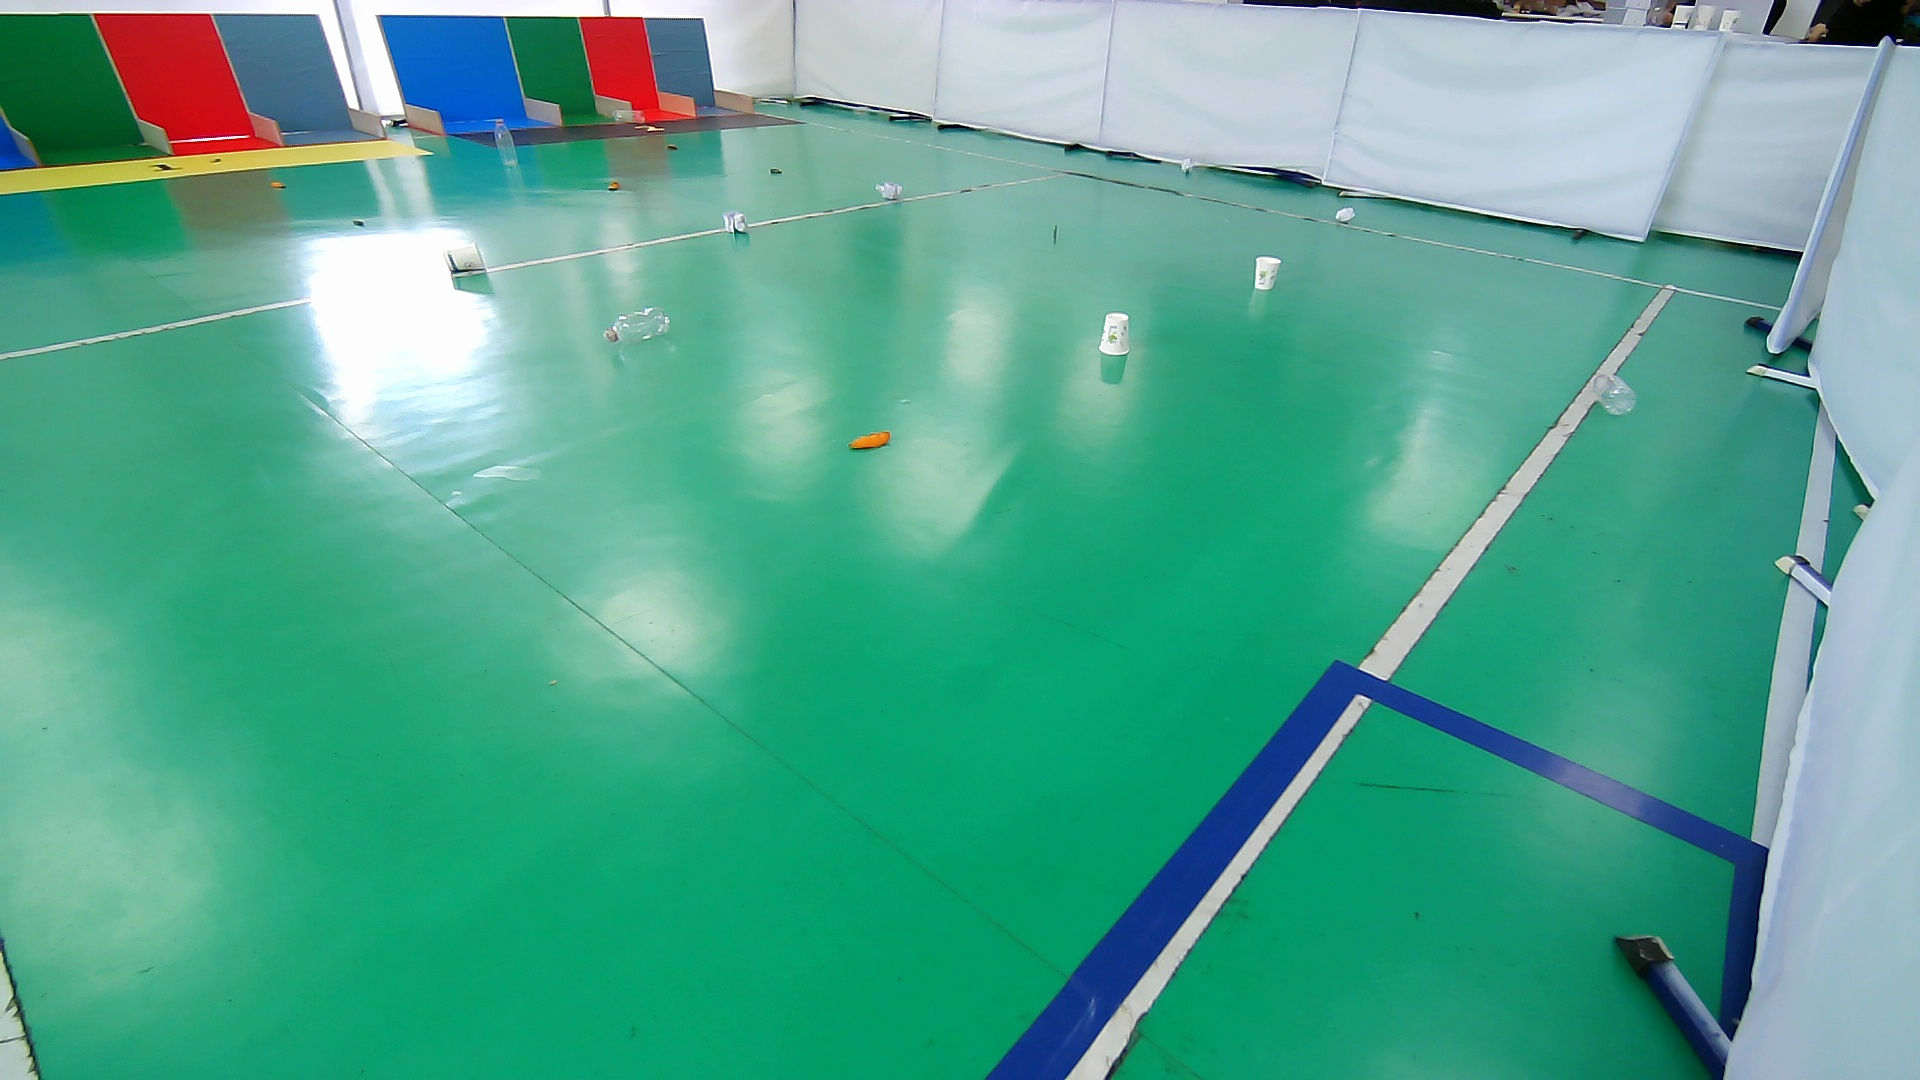battery: (1046, 219, 1065, 251), (347, 214, 372, 232), (764, 164, 789, 178)
bottle: (601, 302, 676, 348), (1590, 369, 1640, 417), (488, 117, 525, 169), (604, 108, 645, 124)
orangepeel: (847, 425, 895, 458), (601, 175, 626, 196), (265, 175, 291, 193)
papercup: (440, 240, 491, 278), (1095, 309, 1133, 357), (1250, 251, 1282, 293)
spitball: (720, 207, 754, 237), (873, 178, 906, 203), (1335, 204, 1358, 224)
